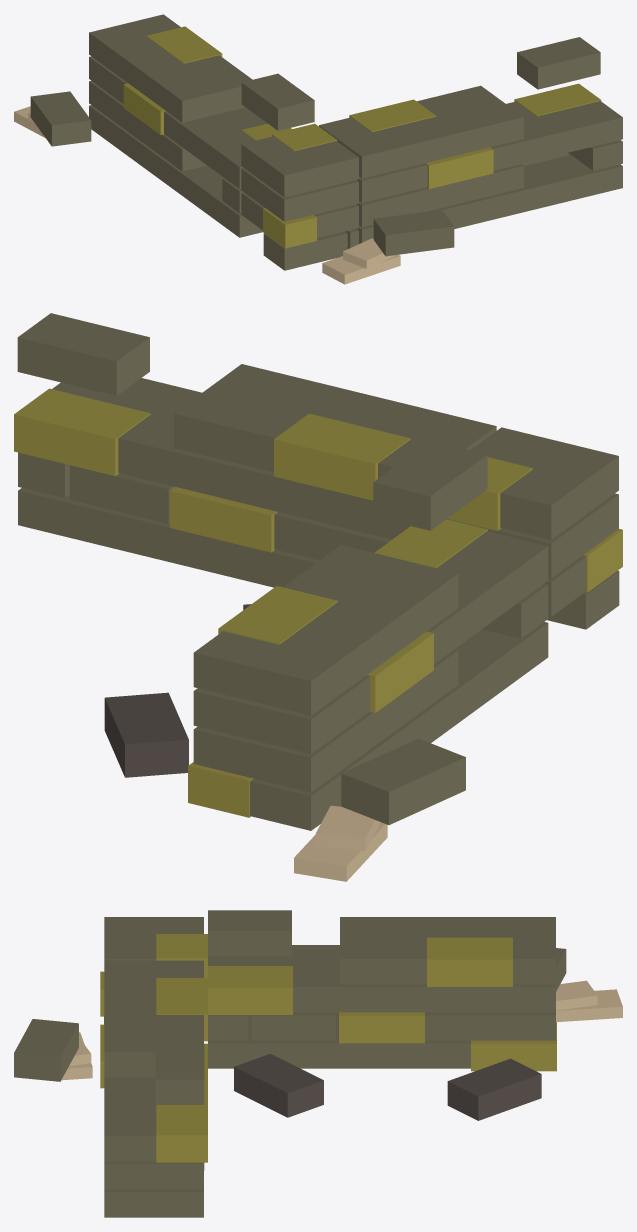
The model's file is SM_SacosEsquina_v2_Irregular_e1_Danado_LOD1.fbx.
3 renders of one model, top to bottom at view 1: azimuth 30°, elevation 25°; view 2: azimuth 150°, elevation 25°; view 3: azimuth 270°, elevation 25°, orthographic. The views are drawn at different scales.
Visible parts, largest first — view 1: SM_sacos_piezas_v9_LOD1; view 2: SM_sacos_piezas_v9_LOD1; view 3: SM_sacos_piezas_v9_LOD1.
Boxes of the visible parts, left/top/right/bottom form: SM_sacos_piezas_v9_LOD1: left=14, top=14, right=622, bottom=284; SM_sacos_piezas_v9_LOD1: left=14, top=313, right=622, bottom=881; SM_sacos_piezas_v9_LOD1: left=14, top=910, right=622, bottom=1217.
Size of the model in its own units: 5.24 by 1.49 by 5.88.
